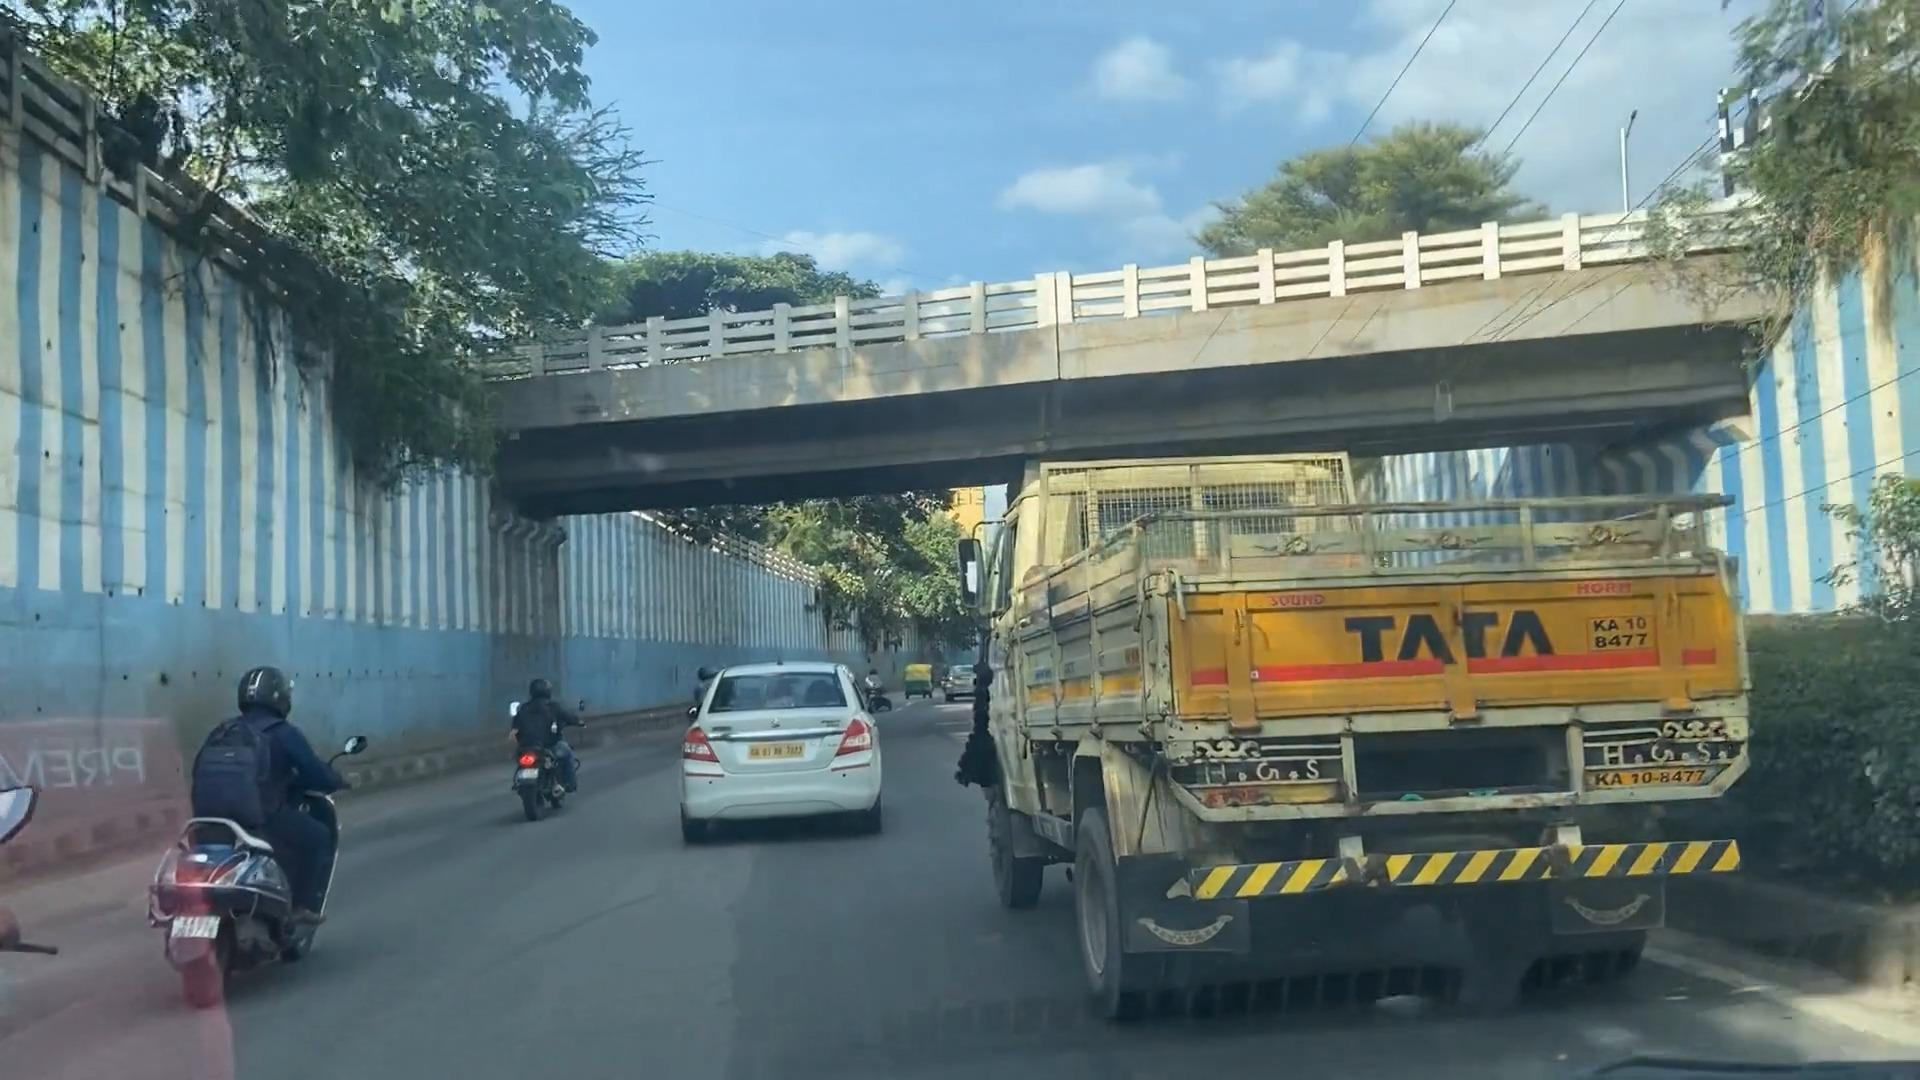HMV: (963, 462, 1746, 992)
LMV: (141, 654, 324, 988), (669, 646, 884, 833)
